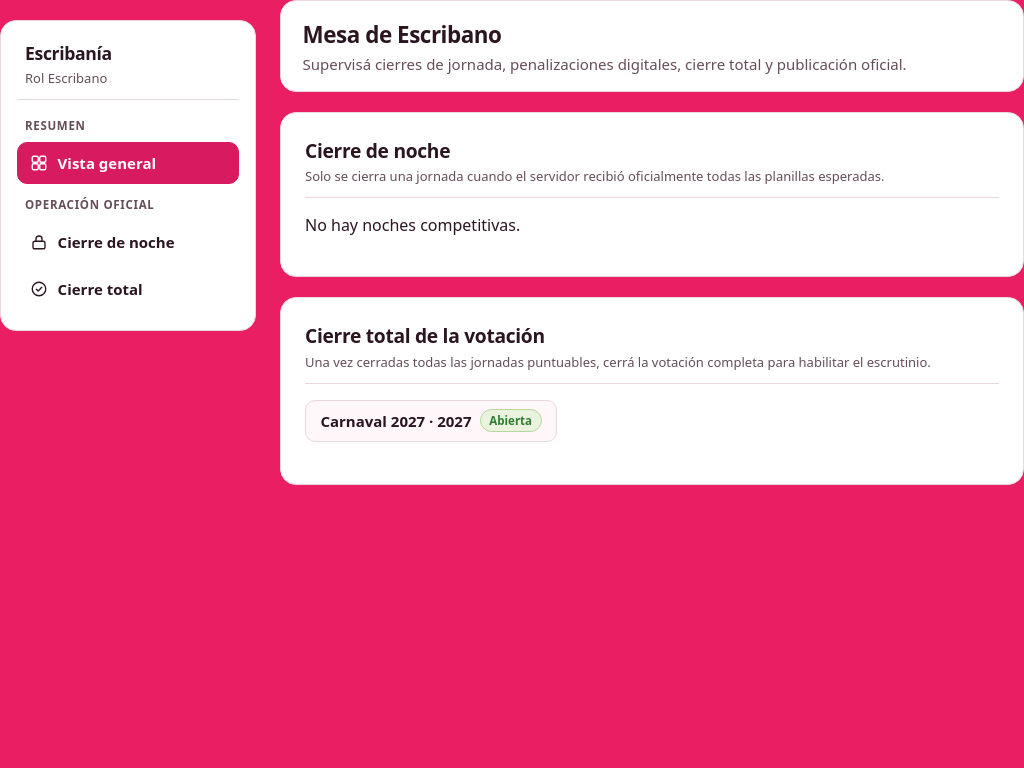
Test: failed total closure clears readiness and shows blocker message
Step 1. Click the button "Carnaval 2027 · 2027 Abierta" → point(431, 421), box [305,400,557,442]
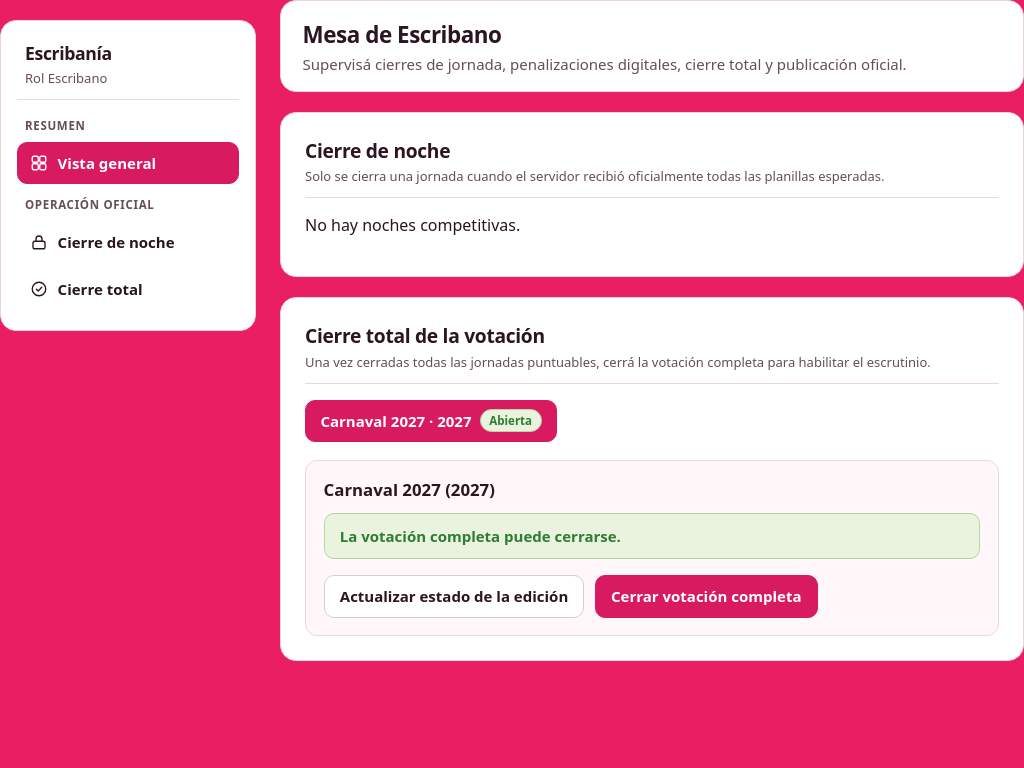
Expected: the text "La votación completa puede cerrarse." is shown, [324,513,980,559]
Step 2. Click the button "Cerrar votación completa" → point(706, 596), box [595,575,818,618]
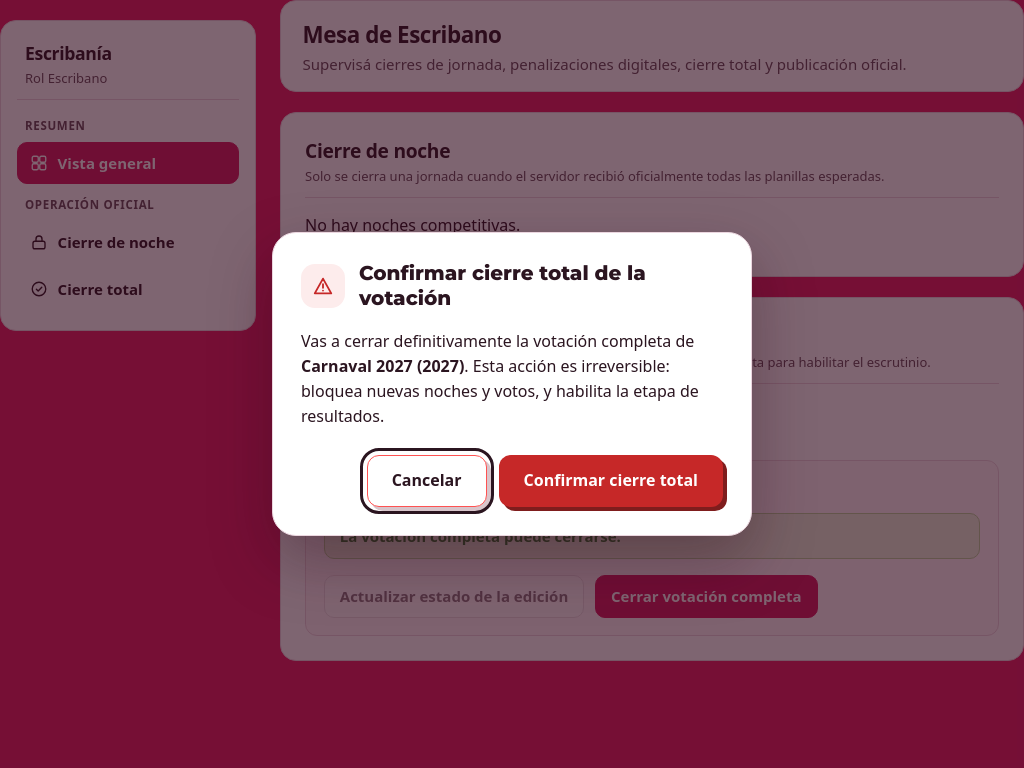
Step 3. Click the button "Confirmar cierre total" → point(611, 481), box [498,455,723,507]
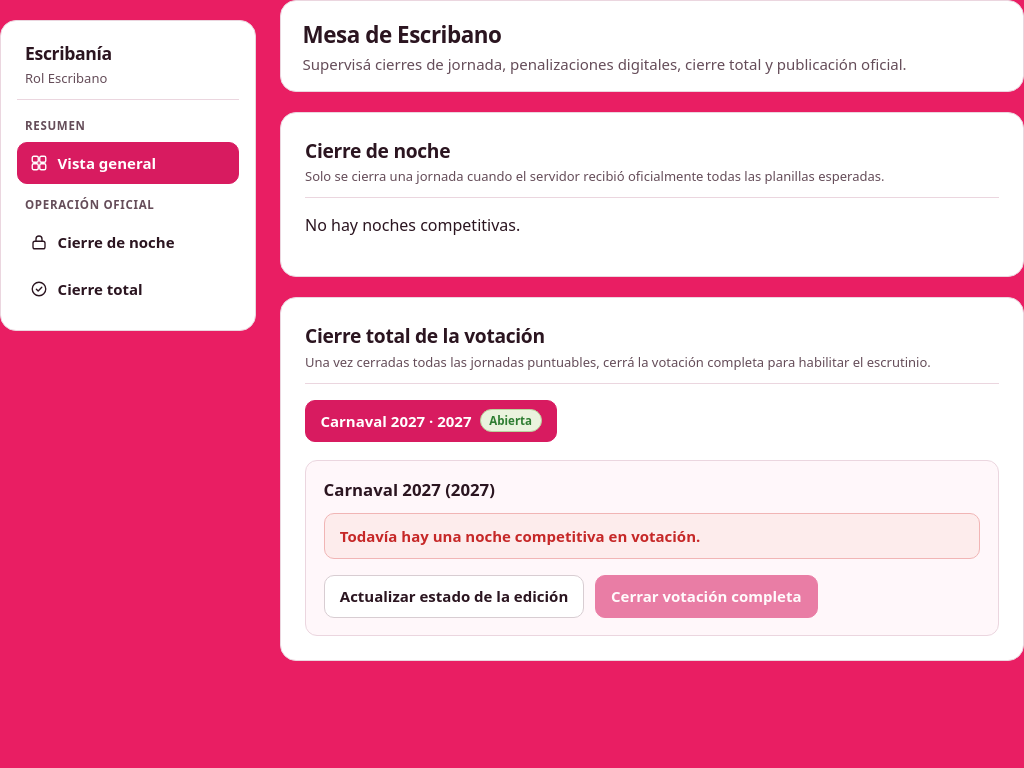
Expected: the message shows "noche competitiva en votación", [340,526,700,546]
Expected: the button "Cerrar votación completa" is disabled, [595,575,818,618]
